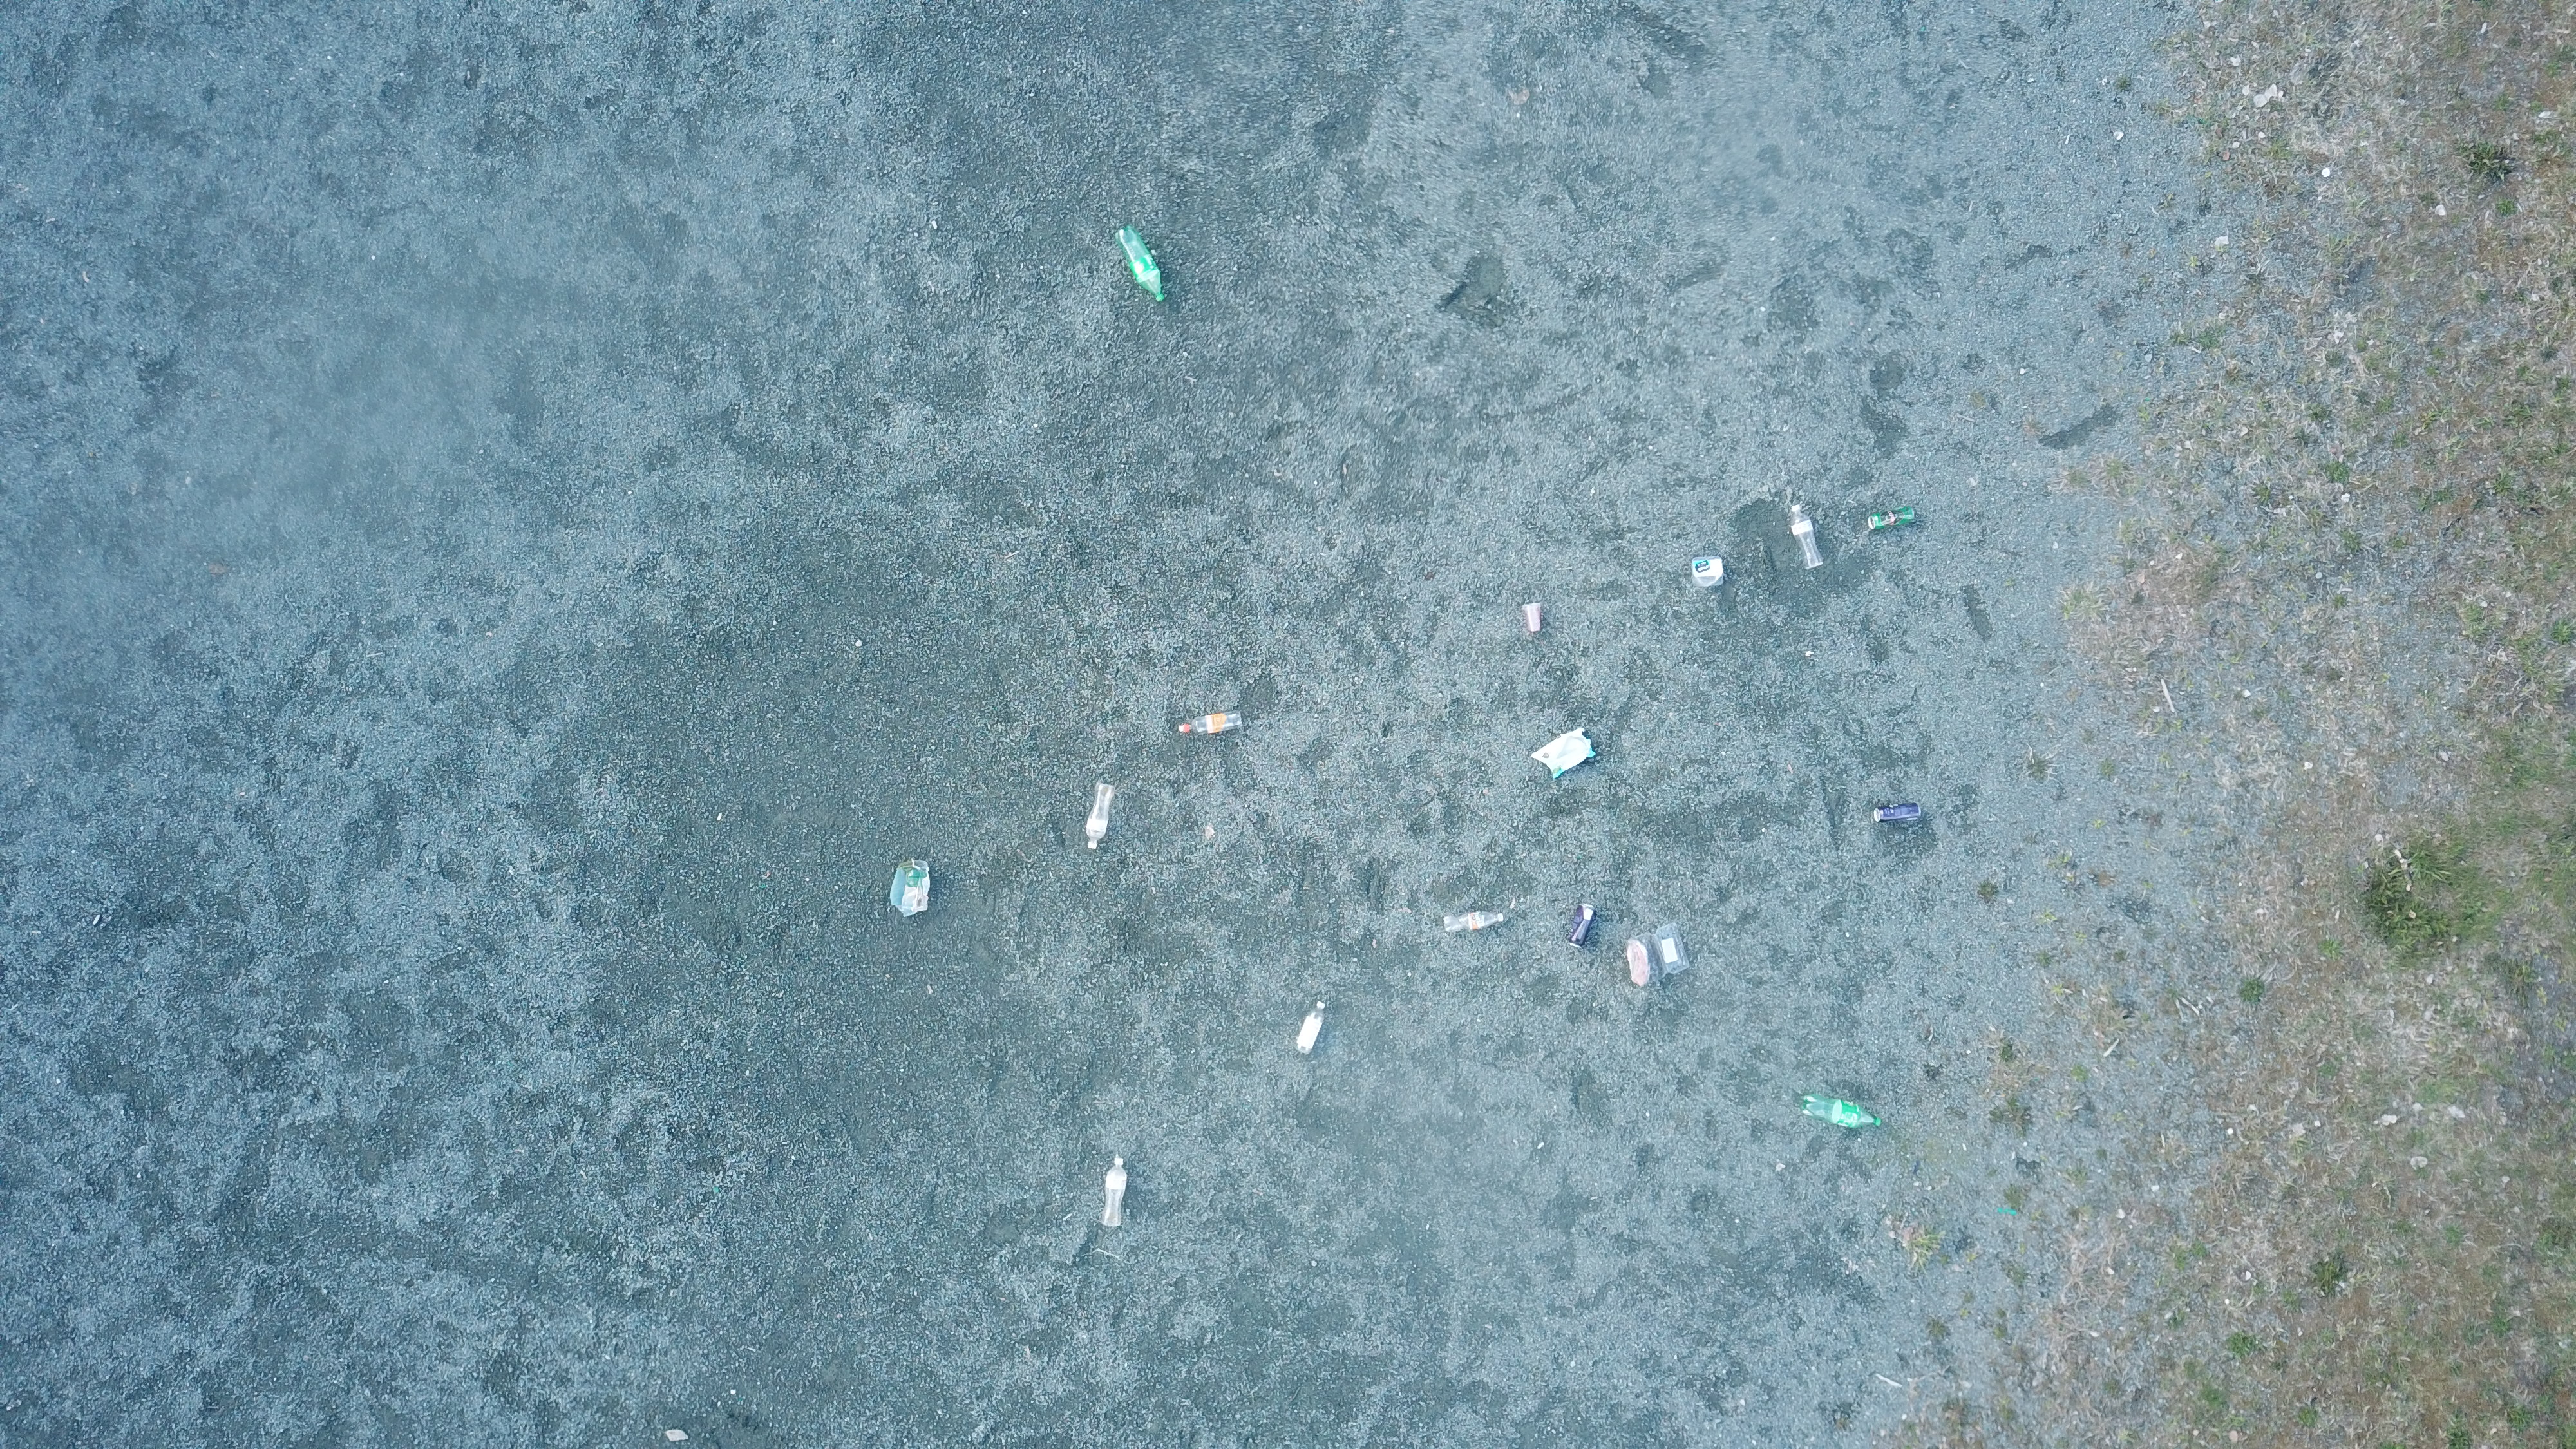Can: (1568, 902, 1598, 950), (1868, 504, 1918, 531), (1874, 801, 1921, 824)
Plastic: (1626, 922, 1691, 987), (1532, 727, 1598, 780), (890, 856, 931, 916), (1691, 556, 1725, 589), (1522, 602, 1545, 633)
PlasticBottle: (1115, 226, 1166, 304), (1801, 1093, 1882, 1132), (1789, 504, 1826, 571), (1100, 1155, 1129, 1230), (1085, 782, 1115, 847), (1178, 709, 1244, 736), (1295, 1001, 1323, 1054), (1444, 911, 1504, 934)
